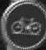bike lane: (2, 5, 43, 45)
